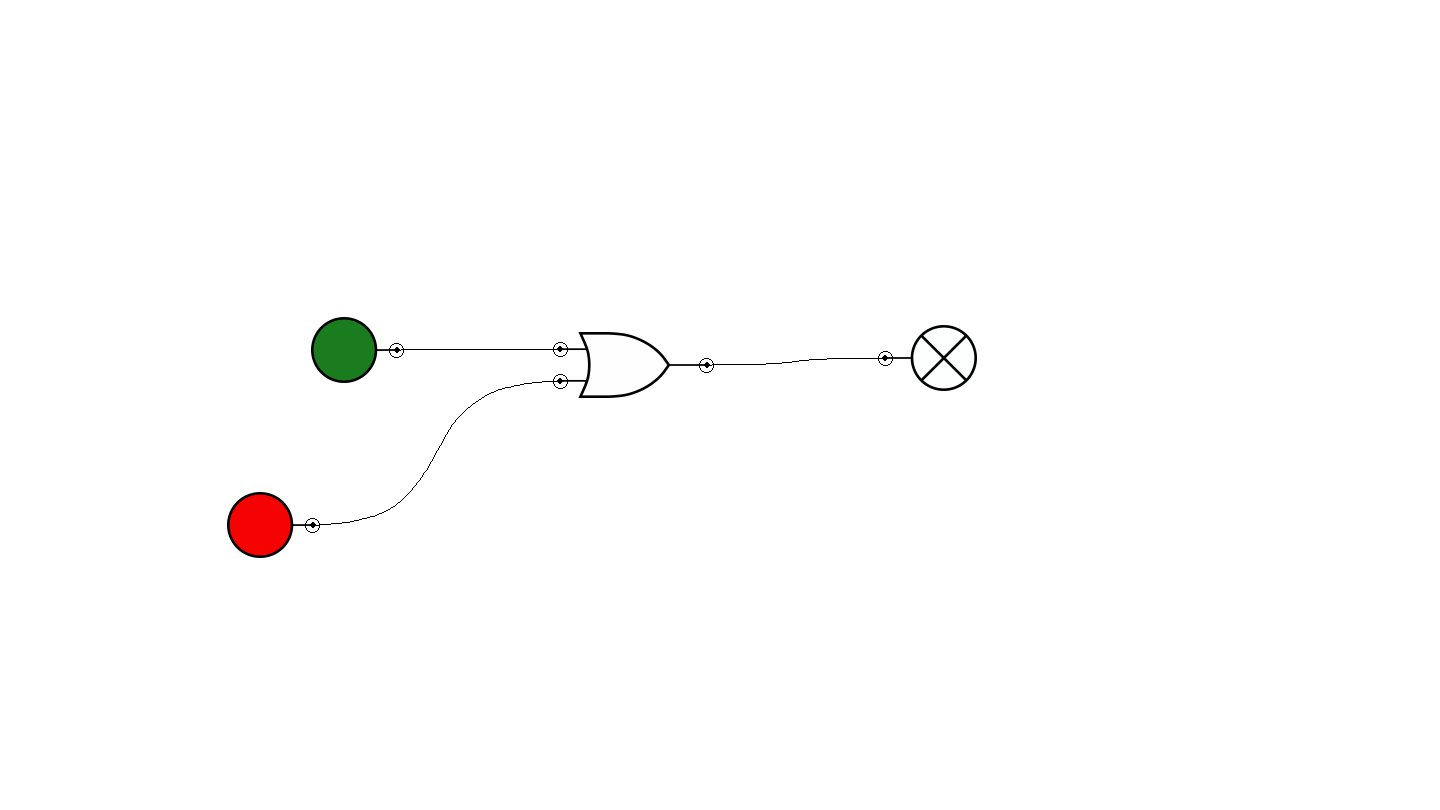bulb: (878, 325, 977, 391)
or: (553, 332, 714, 398)
switch_False: (227, 492, 320, 558)
switch_True: (311, 317, 404, 383)
